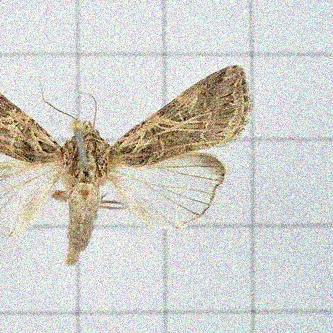Spodoptera litura: (1, 65, 254, 266)
